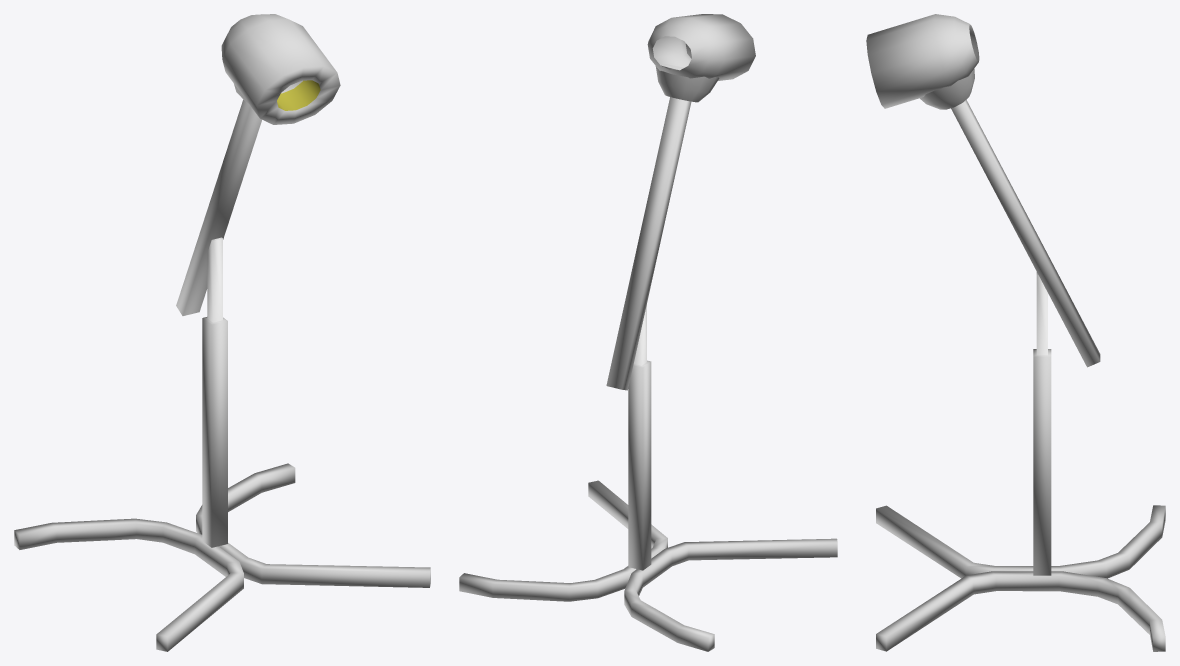
The picture shows the model from 3 angles, left to right: view 1: azimuth 30°, elevation 25°; view 2: azimuth 150°, elevation 25°; view 3: azimuth 270°, elevation 25°; orthographic projection. The views are drawn at different scales.
Parts seen in each view (by area): view 1: Cube.001; view 2: Cube.001; view 3: Cube.001.
Boxes of the visible parts, x1,y1,x2,y2 form: Cube.001: (14, 14, 430, 651); Cube.001: (459, 14, 837, 651); Cube.001: (866, 14, 1165, 651).
Bounding box in the file's own units: 67.52 × 135 × 64.75.
